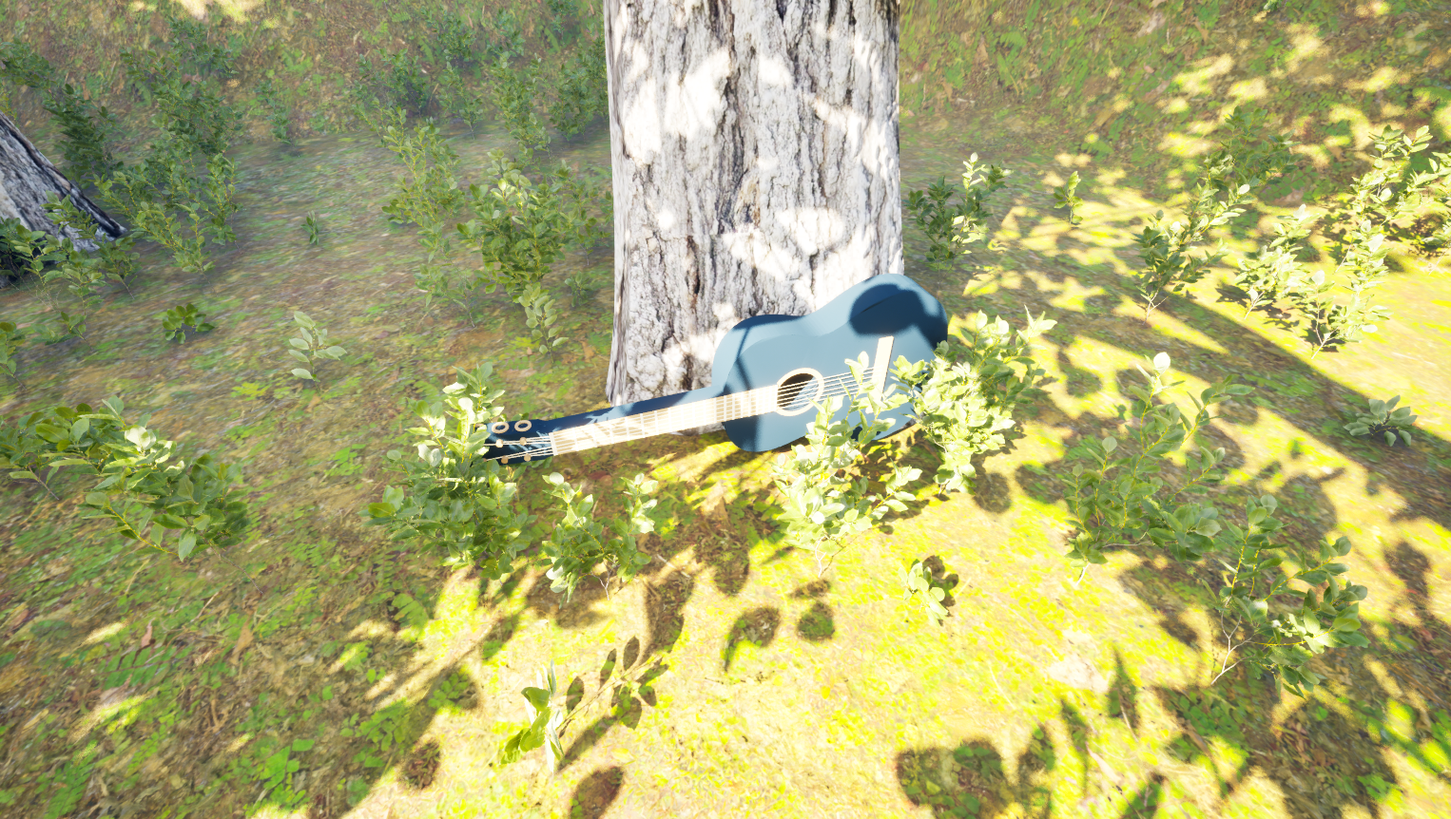Guitar: (422, 264, 967, 538)
